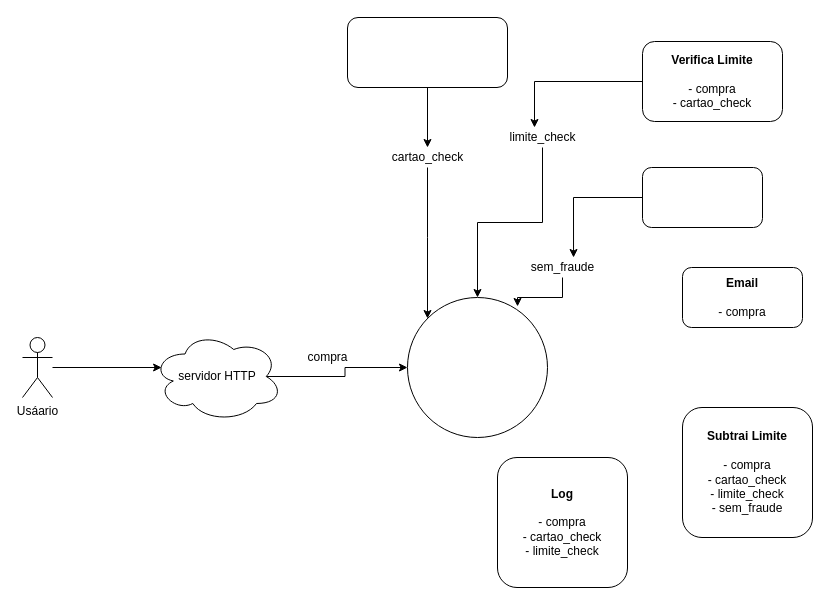
Image size: 830x605. Some labels were removed from this diagram. The shapes that lost their labels are listed below. From the top down, each one's centre as x and y in pixels, then its label:
the point at 427,52: Valida dados do Cartão - compra
the point at 702,197: Fraude? - compra
the point at 477,367: Broker
